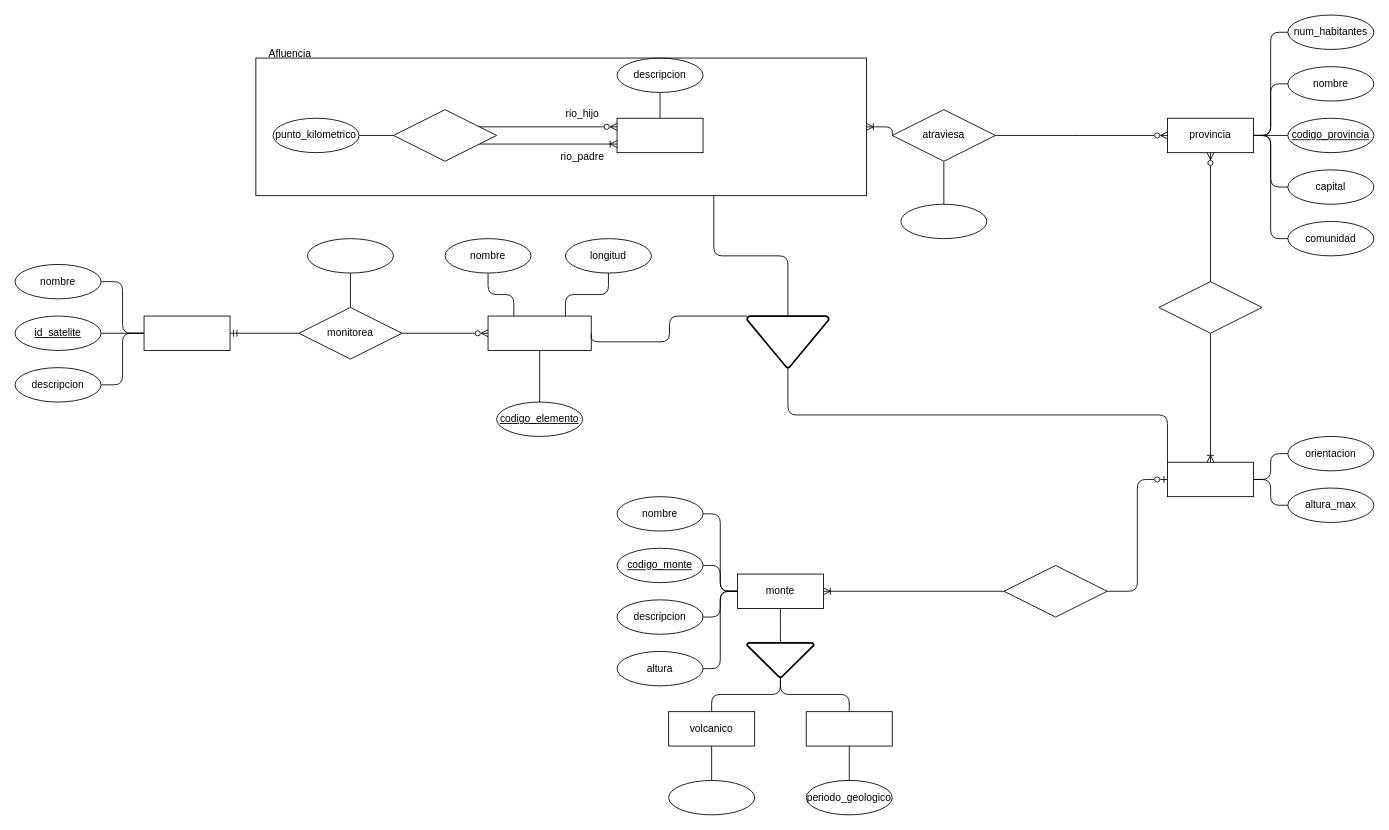
Some shapes in this 1389 by 830 pixel diagram are drawn without their labels. Here are the shapes that lost their labels. From the top down, the box of each, then its label:
(393, 109, 497, 161): genera
(616, 117, 703, 153): rio
(900, 203, 987, 239): longitud_tramo
(307, 238, 393, 273): fecha_inicio
(1158, 281, 1262, 333): ocupa
(143, 315, 230, 350): satelite
(487, 315, 591, 350): elemento_geologico
(1167, 461, 1253, 497): sistema_mont
(1003, 565, 1107, 617): compone
(805, 711, 892, 746): plegamiento
(668, 780, 755, 815): tipo_volcan
